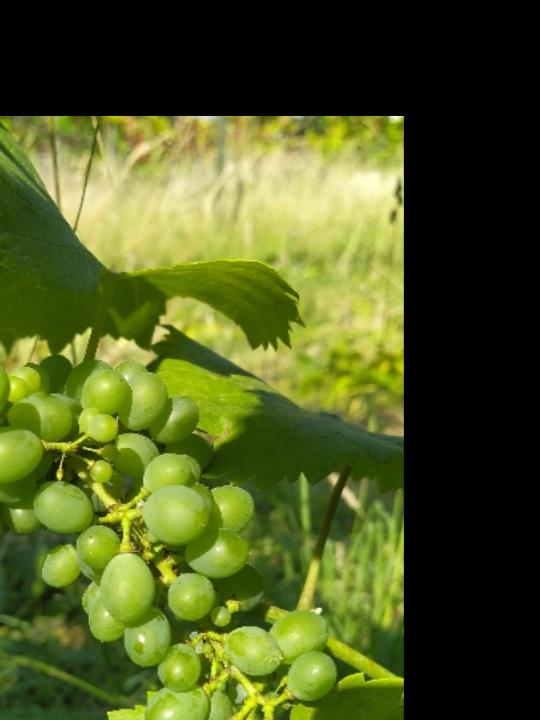grape: (0, 342, 344, 720)
